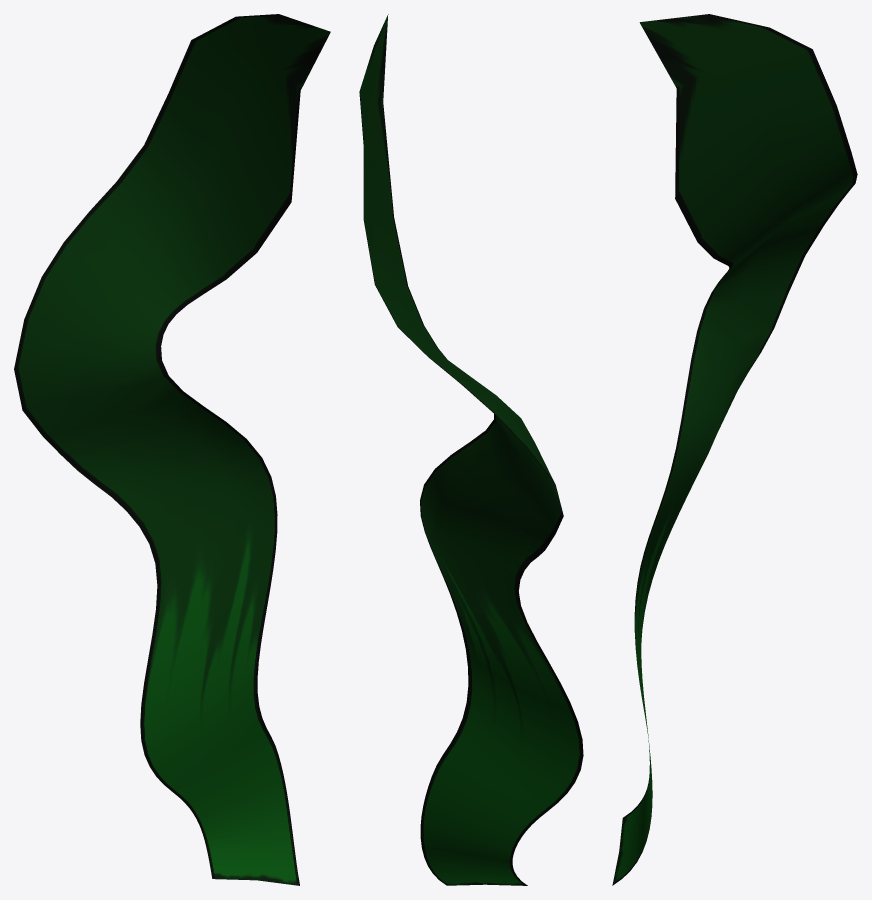
File: alga1.fbx
The picture shows the model from 3 angles, left to right: view 1: azimuth 30°, elevation 25°; view 2: azimuth 150°, elevation 25°; view 3: azimuth 270°, elevation 25°; orthographic projection. The views are drawn at different scales.
Visible parts, largest first — view 1: alga1; view 2: alga1; view 3: alga1.
Boxes of the visible parts, box(x1,y1,x2,y2) form: alga1: box(14, 14, 330, 885); alga1: box(359, 14, 583, 885); alga1: box(612, 14, 857, 885).
Bounding box in the file's own units: 9.14 × 30.52 × 7.65.
